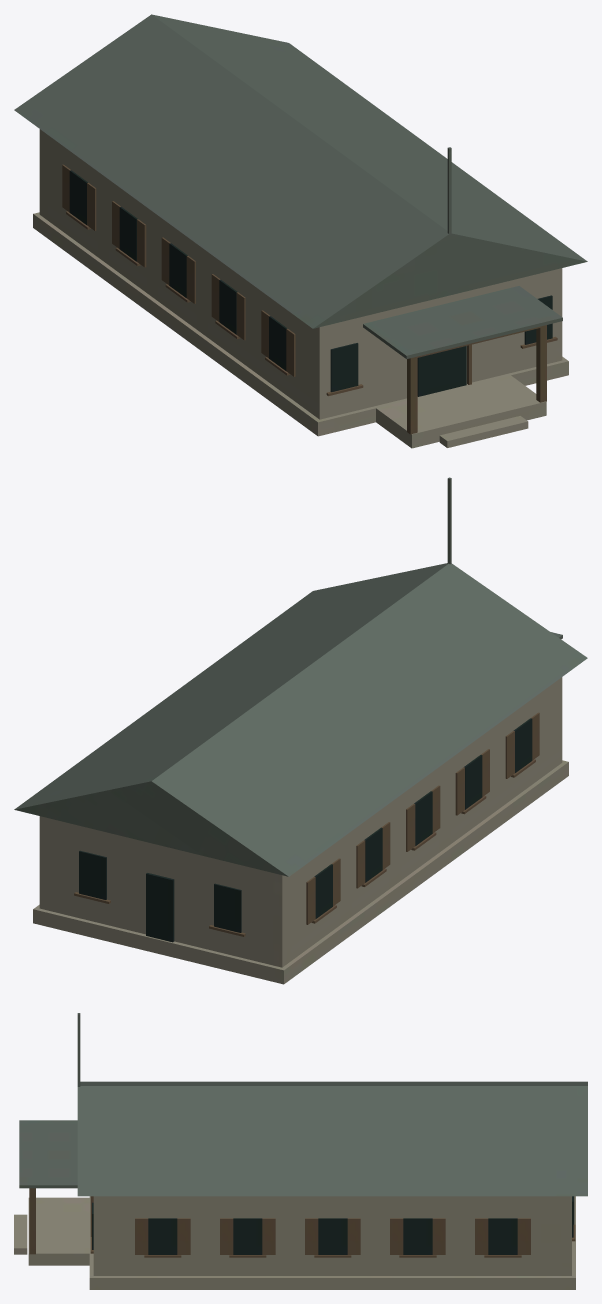
The model's file is ormoc-customs-building.glb.
The picture shows the model from 3 angles, top to bottom: view 1: azimuth 30°, elevation 25°; view 2: azimuth 150°, elevation 25°; view 3: azimuth 270°, elevation 25°; orthographic projection. The views are drawn at different scales.
Parts seen in each view (by area): view 1: ormoc-customs-building_concrete; view 2: ormoc-customs-building_concrete; view 3: ormoc-customs-building_concrete.
Part boxes in pixels (bbox=[...]): ormoc-customs-building_concrete: bbox=[14, 14, 587, 448]; ormoc-customs-building_concrete: bbox=[14, 477, 587, 984]; ormoc-customs-building_concrete: bbox=[14, 1013, 587, 1289].
Bounding box in the file's own units: 10.2 × 9.3 × 21.6.
Materials: 1 (1 with a texture image).
